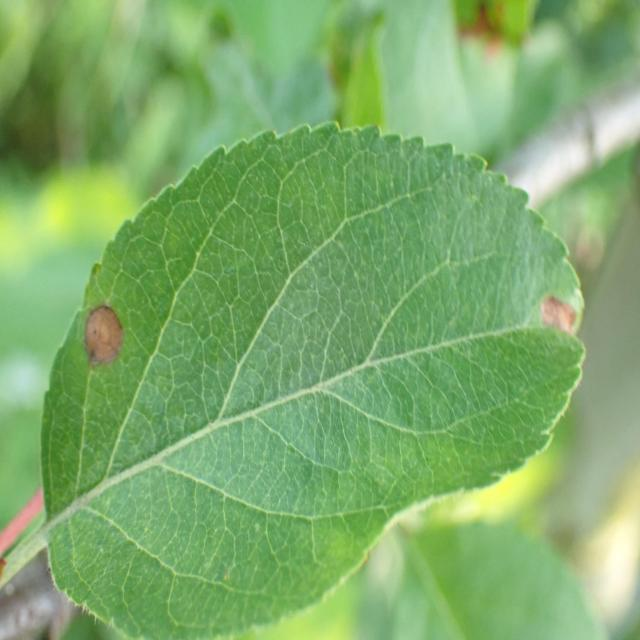Black Rot: (75, 271, 140, 402), (531, 276, 584, 364)
